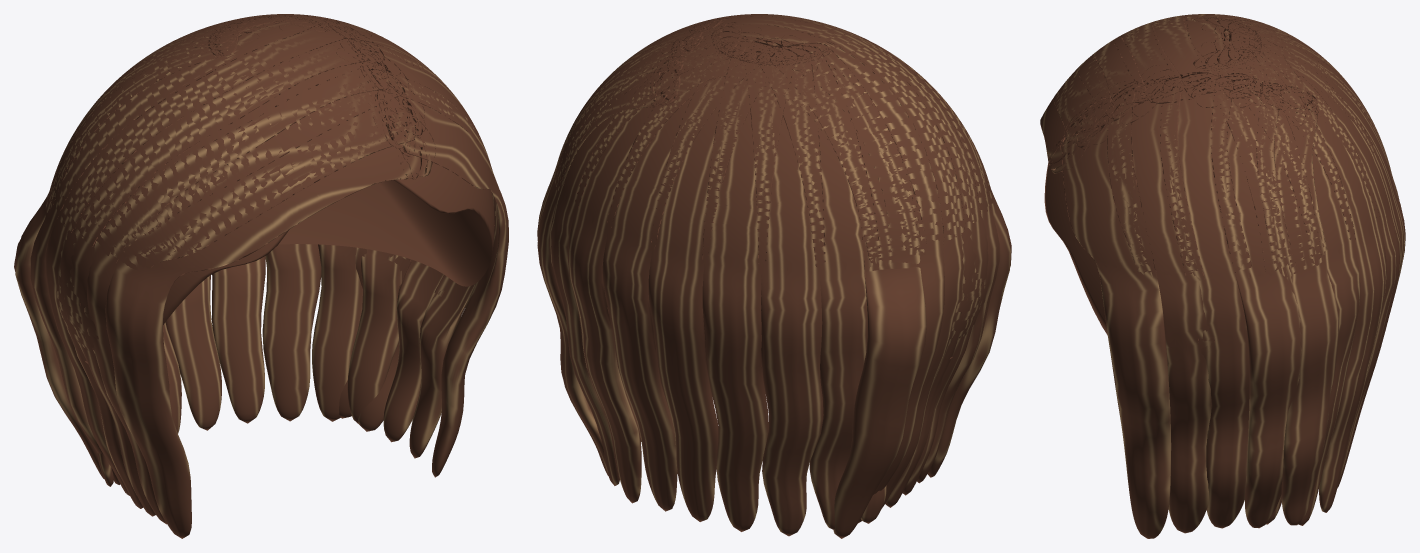
File: Highlights-75841277d4f9252-hair.glb
3 renders of one model, left to right at view 1: azimuth 30°, elevation 25°; view 2: azimuth 150°, elevation 25°; view 3: azimuth 270°, elevation 25°, orthographic. The views are drawn at different scales.
Visible parts, largest first — view 1: 226 hair / Hair / sculpted 0.002, 226 hair / Hair / sculpted 1.004, 226 hair / Hair / sculpted 2.002, 226 hair / Hair / sculpted 1.003; view 2: 226 hair / Hair / sculpted 0.002, 226 hair / Hair / sculpted 2.002, 226 hair / Hair / sculpted 1.004; view 3: 226 hair / Hair / sculpted 1.004, 226 hair / Hair / sculpted 2.002, 226 hair / Hair / sculpted 0.002, 226 hair / Hair / sculpted 1.003.
Boxes of the visible parts, left/top/right/bottom form: 226 hair / Hair / sculpted 0.002: left=14, top=14, right=454, bottom=538; 226 hair / Hair / sculpted 1.004: left=45, top=14, right=508, bottom=524; 226 hair / Hair / sculpted 2.002: left=30, top=14, right=495, bottom=516; 226 hair / Hair / sculpted 1.003: left=85, top=162, right=494, bottom=363; 226 hair / Hair / sculpted 0.002: left=568, top=14, right=1011, bottom=538; 226 hair / Hair / sculpted 2.002: left=537, top=14, right=989, bottom=529; 226 hair / Hair / sculpted 1.004: left=537, top=14, right=999, bottom=536; 226 hair / Hair / sculpted 1.004: left=1053, top=14, right=1400, bottom=538; 226 hair / Hair / sculpted 2.002: left=1077, top=14, right=1405, bottom=533; 226 hair / Hair / sculpted 0.002: left=1040, top=14, right=1399, bottom=528; 226 hair / Hair / sculpted 1.003: left=1044, top=163, right=1107, bottom=334.
Bounding box in the file's own units: 0.9945 × 1.06 × 0.7967.
Materials: 4 (4 with a texture image).
